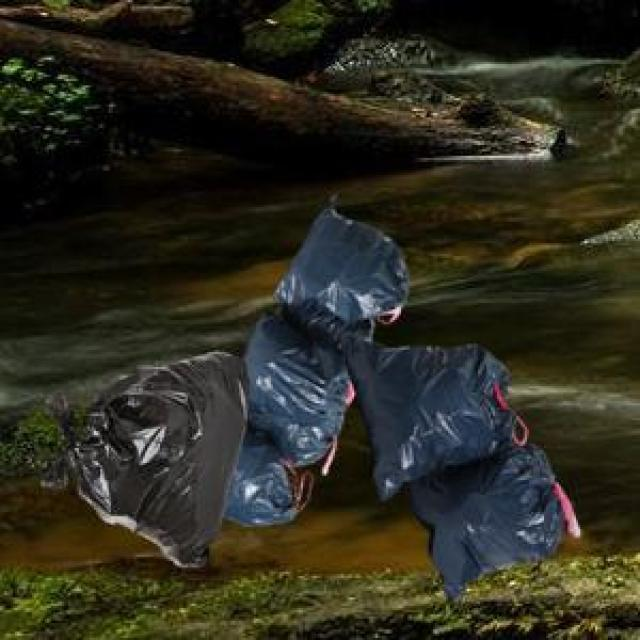waste: (71, 206, 580, 598)
